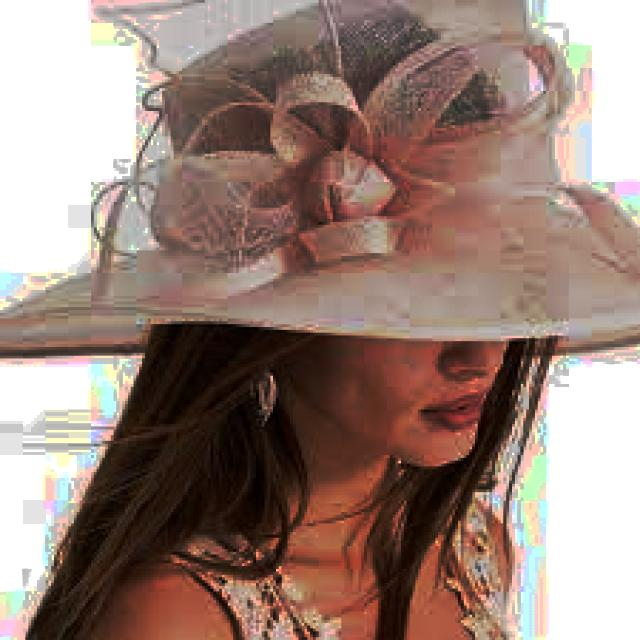TOPI: (0, 0, 634, 358)
